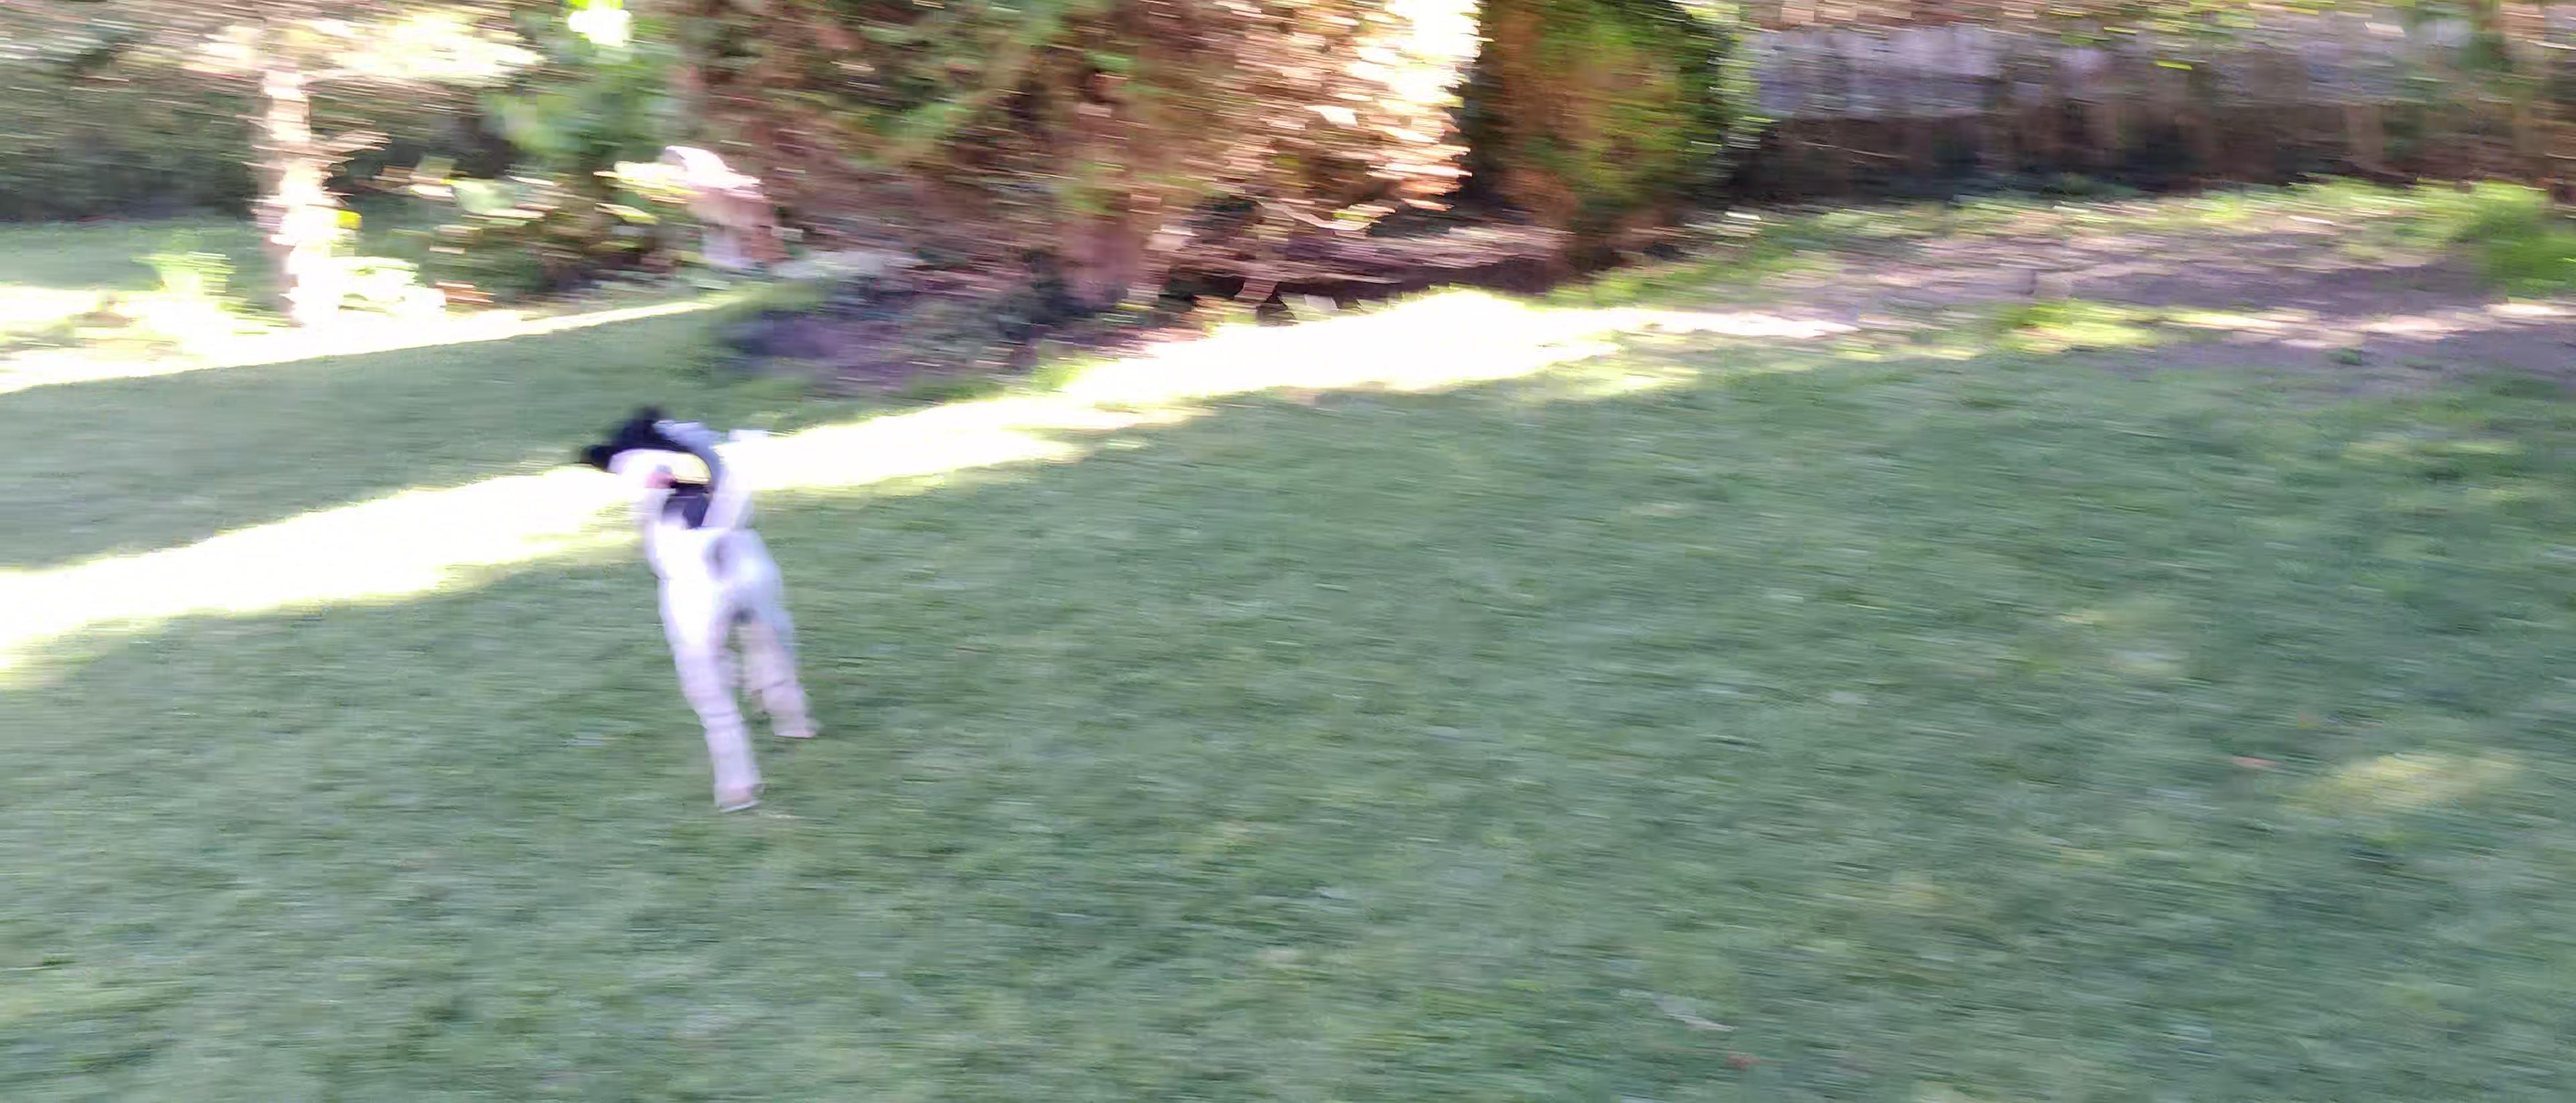Dog: (557, 385, 830, 825)
